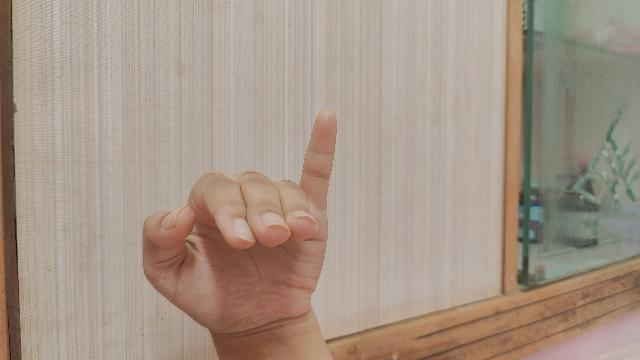Hamsapaksha: (140, 110, 338, 360)
